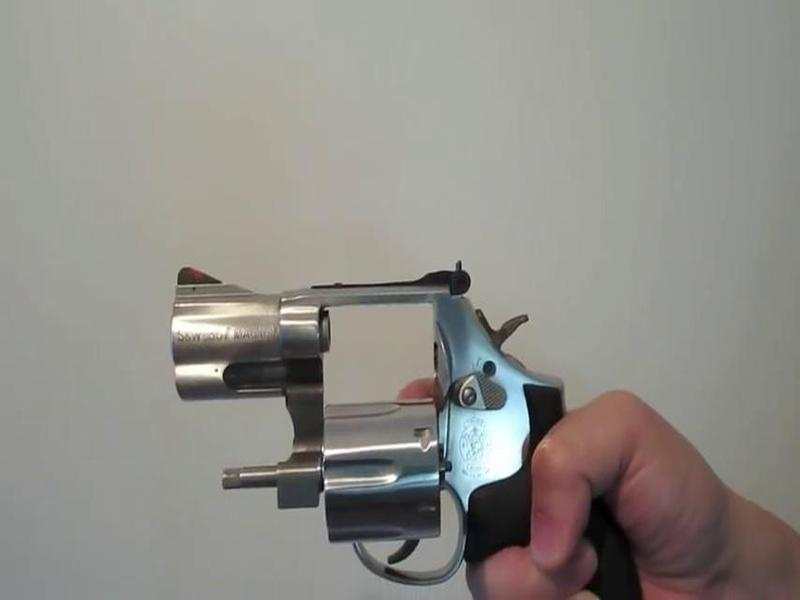Revolver: (132, 236, 634, 600)
